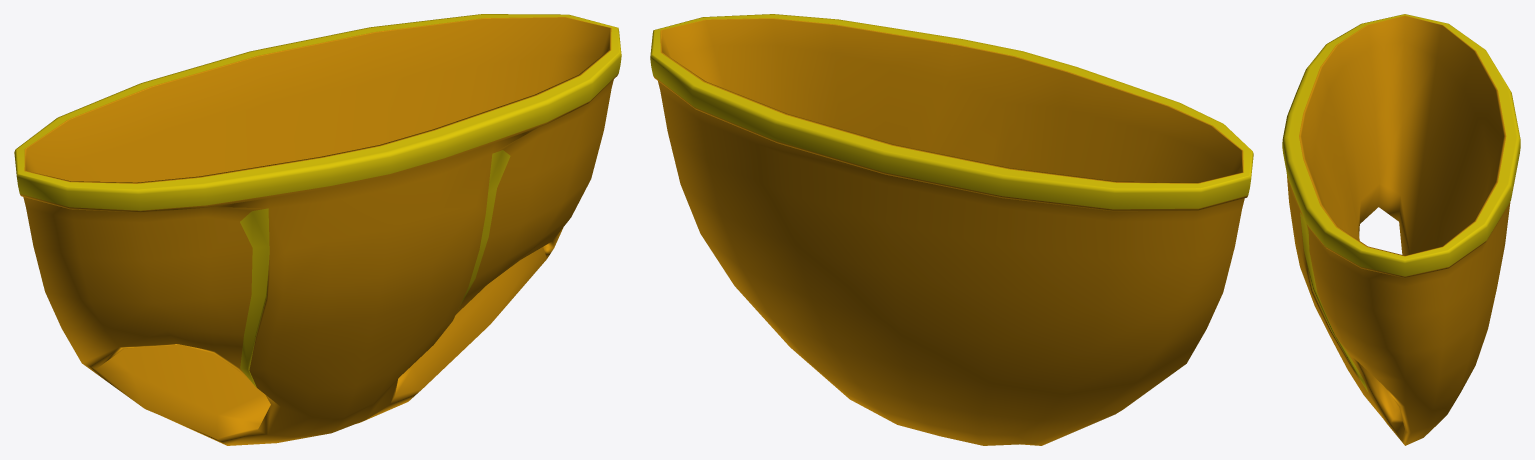
Rendered from panties.fbx.
3 renders of one model, left to right at view 1: azimuth 30°, elevation 25°; view 2: azimuth 150°, elevation 25°; view 3: azimuth 270°, elevation 25°, orthographic. The views are drawn at different scales.
Parts seen in each view (by area): view 1: panties:pSphere1; view 2: panties:pSphere1; view 3: panties:pSphere1.
Boxes of the visible parts, x1,y1,x2,y2 form: panties:pSphere1: (14, 14, 621, 445); panties:pSphere1: (650, 14, 1253, 445); panties:pSphere1: (1282, 14, 1520, 445).
Bounding box in the file's own units: 1.87 × 0.9939 × 0.7637.
